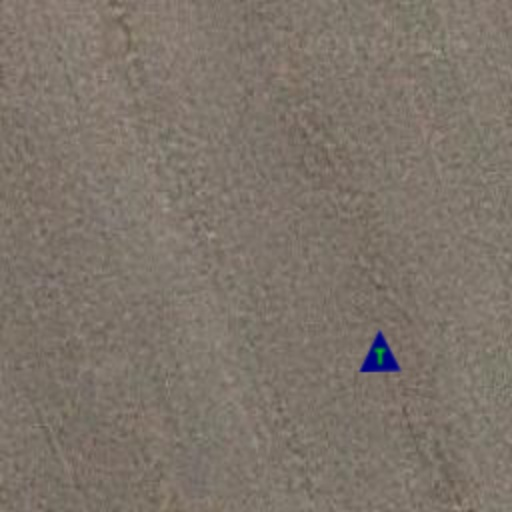triangle: (358, 328, 402, 372)
